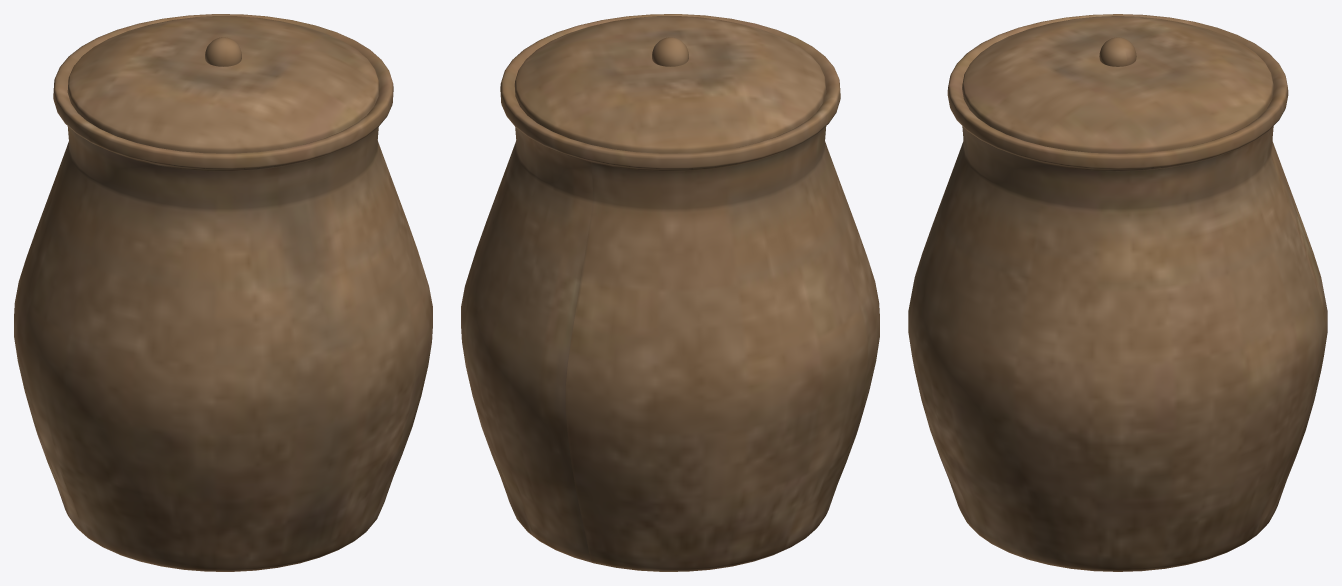
Rendered from SM_Pot_C_Complete.glb.
3 views of the same model, side by side, from view 1: azimuth 30°, elevation 25°; view 2: azimuth 150°, elevation 25°; view 3: azimuth 270°, elevation 25° (orthographic).
Visible parts, largest first — view 1: SM_Pot_C_Complete; view 2: SM_Pot_C_Complete; view 3: SM_Pot_C_Complete.
Part boxes in pixels (x1,y1,x2,y2): SM_Pot_C_Complete: (14, 14, 432, 571); SM_Pot_C_Complete: (461, 14, 879, 571); SM_Pot_C_Complete: (908, 14, 1327, 571).
Size of the model in its own units: 0.2948 by 0.3644 by 0.2948.
1 material, 1 textured.
